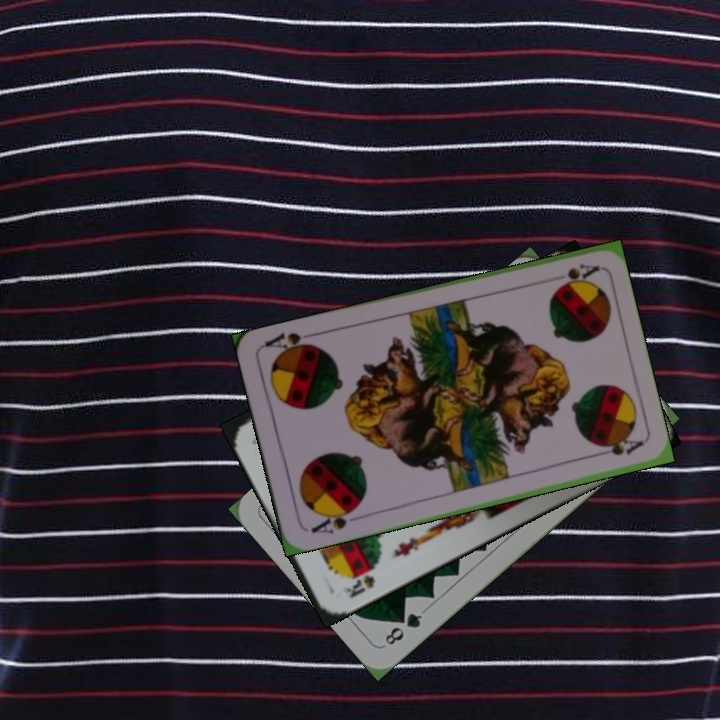G8: (380, 609, 425, 648)
SA: (307, 503, 360, 537), (553, 259, 601, 290)
SK: (342, 570, 378, 601)
